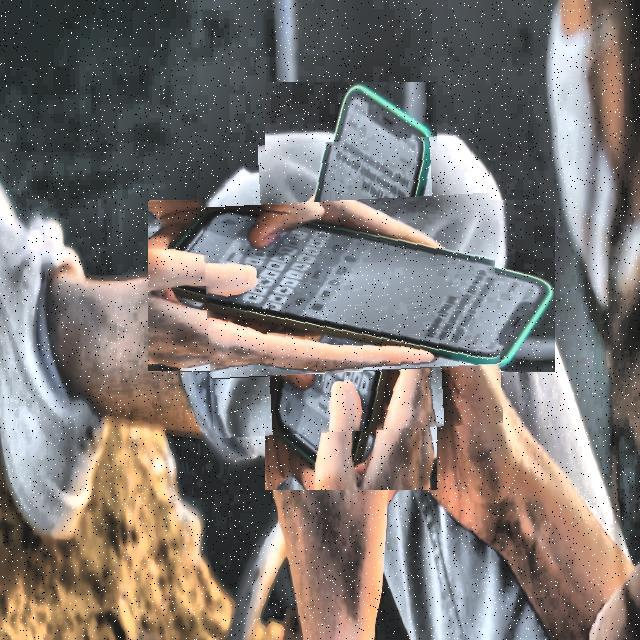Phone: (203, 138, 500, 434)
